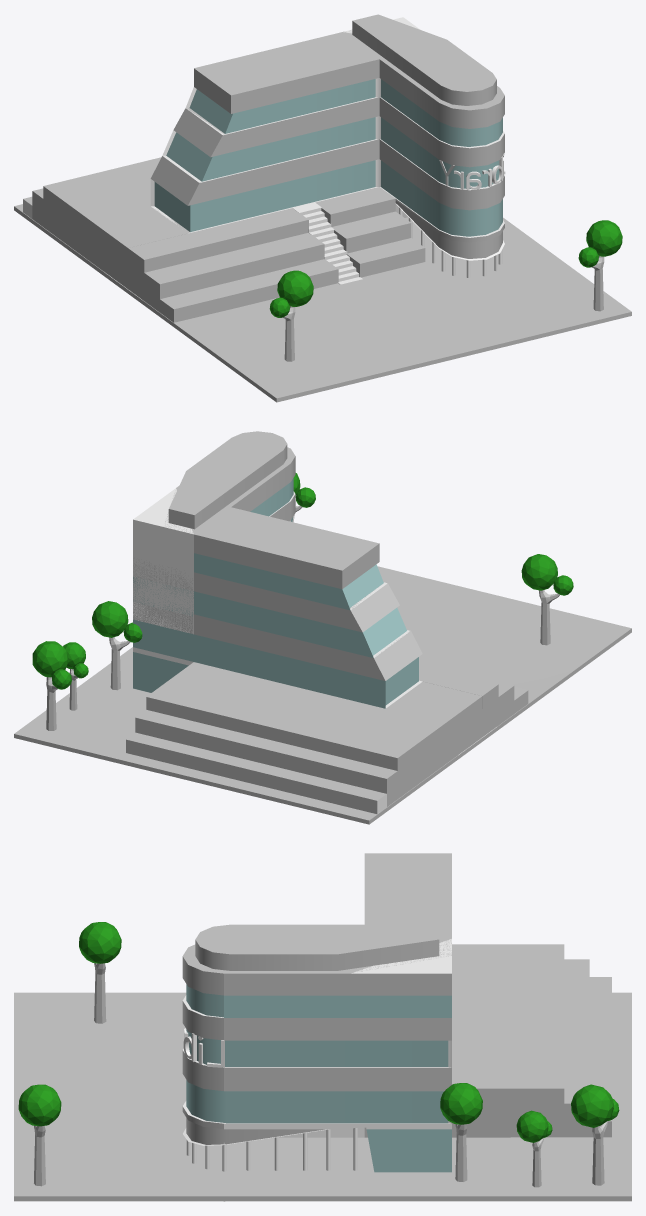
Rendered from Library.obj.
3 views of the same model, one above another, from view 1: azimuth 30°, elevation 25°; view 2: azimuth 150°, elevation 25°; view 3: azimuth 270°, elevation 25° (orthographic). The views are drawn at different scales.
Visible parts, largest first — view 1: Boole.1, Icosphere_Icosphere_002_4, Icosphere_Icosphere_002_3; view 2: Boole.1, Icosphere_Icosphere_002_2, Icosphere_Icosphere_002_3, Icosphere_Icosphere_002, Cylinder_014_3, Cylinder_014_2; view 3: Boole.1, Icosphere_Icosphere_002, Icosphere_Icosphere_002_3, Icosphere_Icosphere_002_4, Icosphere_Icosphere_002_2, Icosphere_Icosphere_002_1, Cylinder_014, Cylinder_014_3, Cylinder_014_4, Cylinder_014_2.
Part boxes in pixels (box(x1,y1,x2,y2)): Boole.1: box(14, 14, 631, 402); Icosphere_Icosphere_002_4: box(586, 220, 622, 256); Icosphere_Icosphere_002_3: box(277, 270, 313, 306); Boole.1: box(14, 431, 631, 824); Icosphere_Icosphere_002_2: box(92, 601, 128, 637); Icosphere_Icosphere_002_3: box(521, 554, 557, 590); Icosphere_Icosphere_002: box(32, 641, 68, 677); Cylinder_014_3: box(539, 590, 559, 645); Cylinder_014_2: box(109, 637, 130, 690); Boole.1: box(14, 853, 631, 1201); Icosphere_Icosphere_002: box(571, 1084, 613, 1127); Icosphere_Icosphere_002_3: box(79, 922, 121, 963); Icosphere_Icosphere_002_4: box(18, 1084, 61, 1126); Icosphere_Icosphere_002_2: box(440, 1083, 482, 1124); Icosphere_Icosphere_002_1: box(516, 1110, 548, 1142); Cylinder_014: box(592, 1121, 608, 1185); Cylinder_014_3: box(94, 963, 106, 1023); Cylinder_014_4: box(34, 1125, 45, 1186); Cylinder_014_2: box(455, 1124, 467, 1181).
Size of the model in its own units: 583 by 333 by 746.
